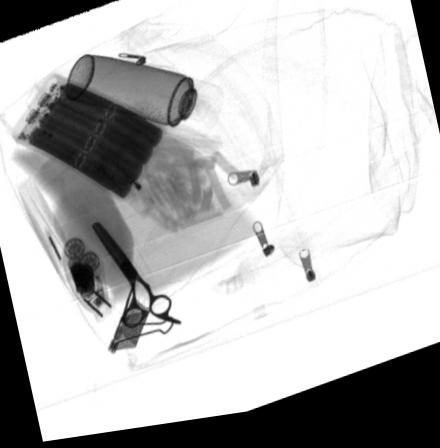Lighter: (92, 149, 155, 223)
Powerbank: (10, 72, 165, 203)
Scissors: (89, 222, 180, 333)
Sprayer: (64, 54, 223, 144)
